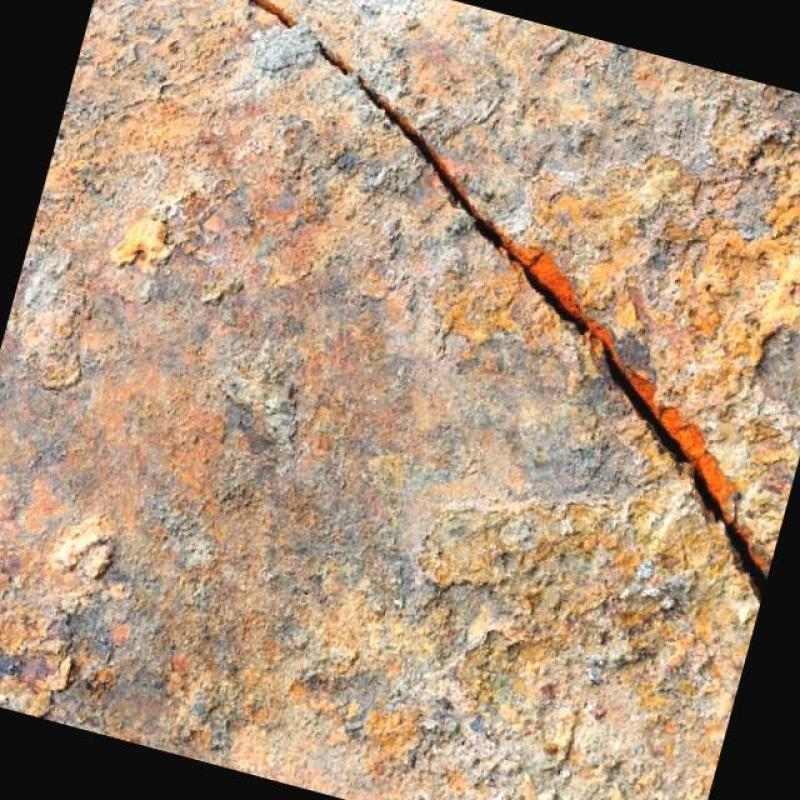Fracture: (562, 270, 668, 505), (325, 52, 443, 158)
